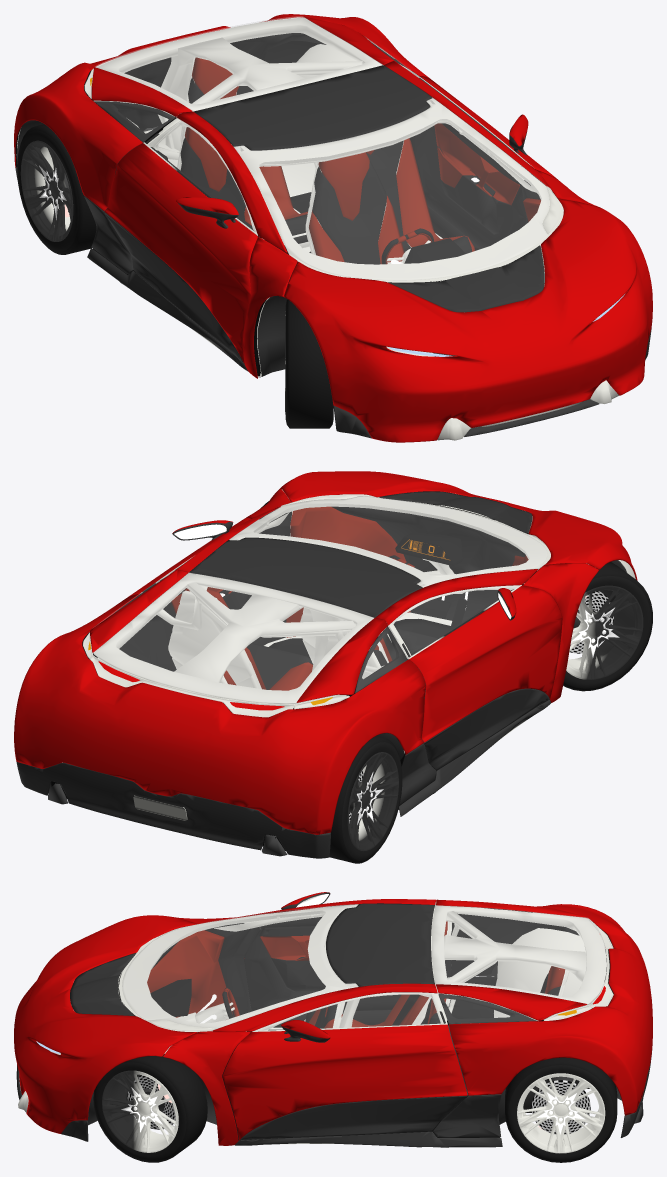
File: car_player.glb
3 renders of one model, top to bottom at view 1: azimuth 30°, elevation 25°; view 2: azimuth 150°, elevation 25°; view 3: azimuth 270°, elevation 25°, orthographic. The views are drawn at different scales.
Parts seen in each view (by area): view 1: BodyHood, BodyWindshield, BodyRearwindow, BodyDoorRColor1, BodyRearPanelsColor1, BodyRoofPanel, BodyWindshieldGasket, InteriorSeatsColor1, InteriorSeatsColor2, BodyPillars, InteriorPillar, InteriorRearHatch (+20 smaller); view 2: BodyRearPanelsColor1, BodyRearwindow, BodyWindshield, BodyDoorRColor1, BodyPanelsColor2, BodyRoofPanel, BodyHood, InteriorRearHatch, BodyPillars, InteriorPillar, BodyWindshieldGasket, InteriorDashMid (+21 smaller); view 3: BodyWindshield, BodyRearPanelsColor1, BodyDoorLColor1, BodyHood, BodyRearwindow, BodyRoofPanel, BodyPillars, BodyWindshieldGasket, BodyDoorLColor2, BodyPanelsColor2, WheelFrontL, InteriorRearHatch (+25 smaller).
Boxes of the visible parts, x1,y1,x2,y2 form: BodyHood: (283, 198, 652, 442); BodyWindshield: (234, 98, 549, 280); BodyRearwindow: (95, 16, 382, 110); BodyDoorRColor1: (104, 143, 257, 363); BodyRearPanelsColor1: (14, 14, 428, 210); BodyRoofPanel: (193, 65, 432, 150); BodyWindshieldGasket: (234, 99, 563, 282); InteriorSeatsColor1: (185, 57, 475, 264); InteriorSeatsColor2: (180, 77, 471, 264); BodyPillars: (176, 61, 598, 378); InteriorPillar: (158, 37, 434, 168); InteriorRearHatch: (94, 17, 383, 117); BodyRearPanelsColor1: (14, 569, 425, 834); BodyRearwindow: (92, 573, 373, 703); BodyWindshield: (229, 496, 547, 587); BodyDoorRColor1: (409, 585, 562, 742); BodyPanelsColor2: (16, 700, 550, 858); BodyRoofPanel: (189, 537, 422, 617); BodyHood: (279, 471, 637, 580); InteriorRearHatch: (93, 573, 386, 707); BodyPillars: (175, 489, 599, 702); InteriorPillar: (174, 574, 417, 682); BodyWindshieldGasket: (230, 496, 550, 587); InteriorDashMid: (331, 503, 528, 622); BodyWindshield: (122, 904, 357, 1028); BodyRearPanelsColor1: (436, 899, 652, 1115); BodyDoorLColor1: (222, 1024, 467, 1140); BodyHood: (14, 915, 196, 1133); BodyRearwindow: (432, 905, 606, 1003); BodyRoofPanel: (326, 903, 434, 986); BodyPillars: (163, 899, 437, 1145); BodyWindshieldGasket: (118, 905, 357, 1032); BodyDoorLColor2: (240, 1096, 467, 1140); BodyPanelsColor2: (16, 1050, 652, 1147); WheelFrontL: (93, 1054, 207, 1162); InteriorRearHatch: (432, 905, 606, 1020).
Size of the model in its own units: 2.54 by 1.15 by 4.36.
23 materials, 5 textured.
